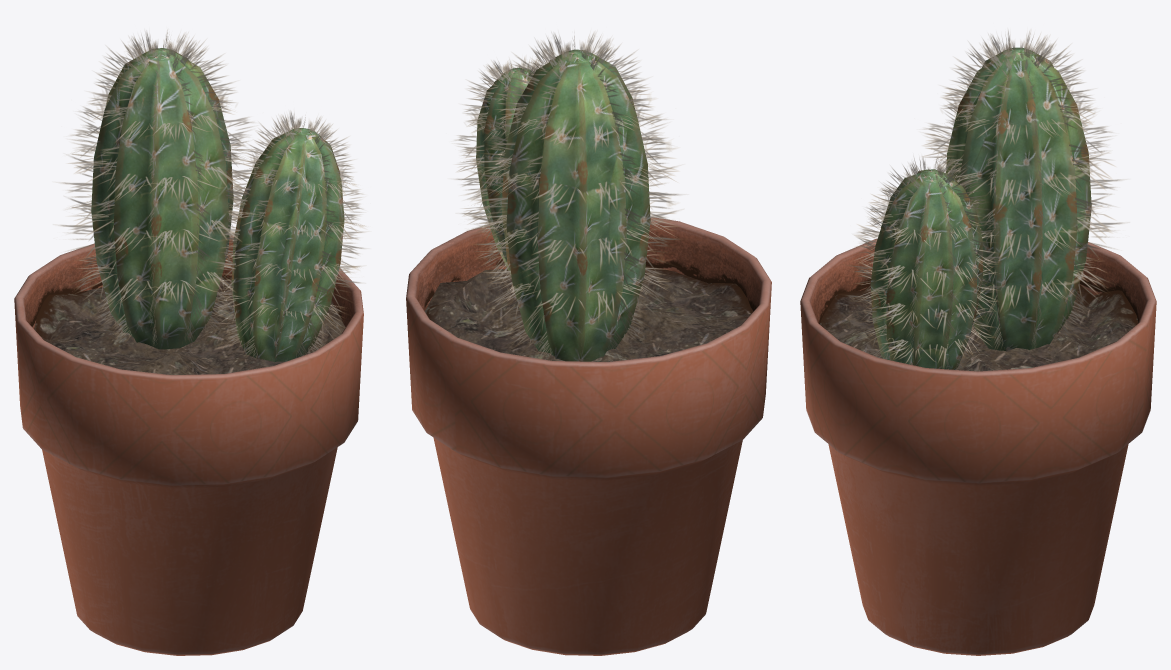
Rendered from cactus.glb.
3 views of the same model, side by side, from view 1: azimuth 30°, elevation 25°; view 2: azimuth 150°, elevation 25°; view 3: azimuth 270°, elevation 25° (orthographic). The views are drawn at different scales.
Visible parts, largest first — view 1: Cactus, Igolki; view 2: Cactus, Igolki; view 3: Cactus, Igolki.
Boxes of the visible parts, x1,y1,x2,y2 form: Cactus: (14,48,363,655); Igolki: (59,30,365,358); Cactus: (406,49,771,655); Igolki: (455,33,682,358); Cactus: (800,47,1156,655); Igolki: (845,31,1122,370).
Bounding box in the file's own units: 146 × 267 × 146.
Materials: 1 (1 with a texture image).
